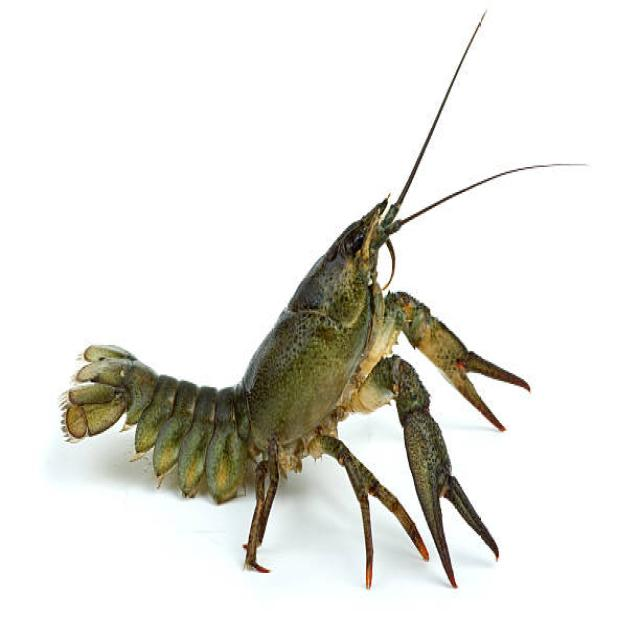Crawfish: (65, 198, 529, 586)
